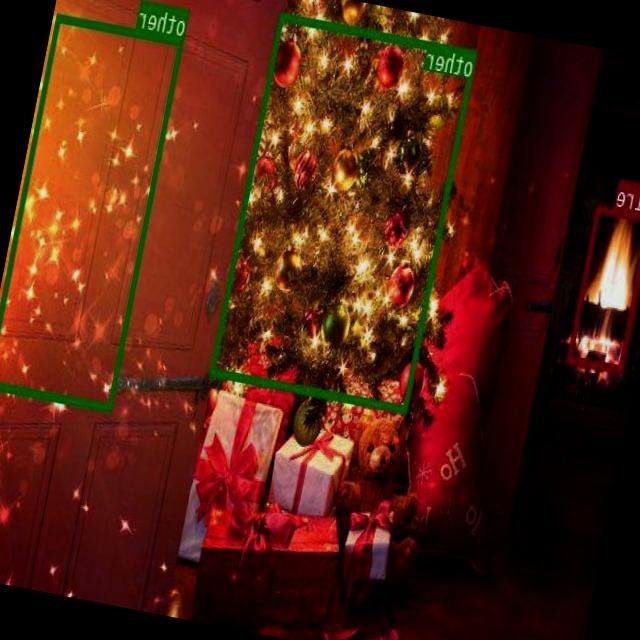fire: (567, 202, 640, 372)
